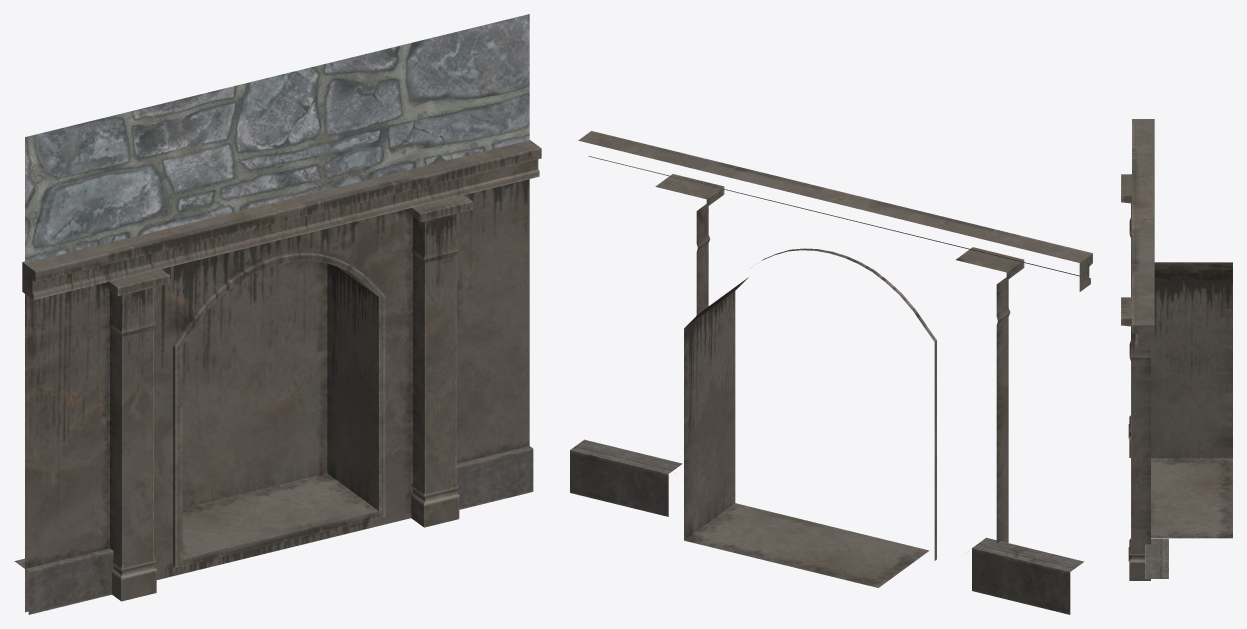
File: SM_Crypt_Wall_Decorative_D.glb
3 views of the same model, side by side, from view 1: azimuth 30°, elevation 25°; view 2: azimuth 150°, elevation 25°; view 3: azimuth 270°, elevation 25° (orthographic). The views are drawn at different scales.
Visible parts, largest first — view 1: SM_Crypt_Wall_Decorative_D; view 2: SM_Crypt_Wall_Decorative_D; view 3: SM_Crypt_Wall_Decorative_D.
Boxes of the visible parts, <box> form: SM_Crypt_Wall_Decorative_D: <box>14,14,541,614</box>; SM_Crypt_Wall_Decorative_D: <box>570,131,1092,614</box>; SM_Crypt_Wall_Decorative_D: <box>1121,119,1232,580</box>.
Bounding box in the file's own units: 5.01 × 4.5 × 1.15.
3 materials, 3 textured.
